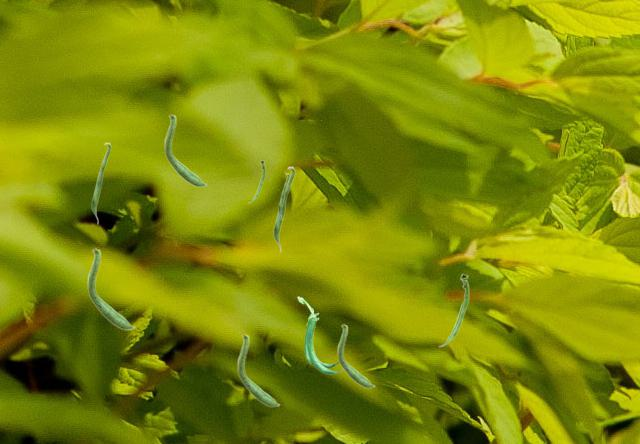french_bean: (87, 247, 134, 329), (297, 296, 343, 373), (164, 113, 206, 186), (237, 333, 279, 406), (337, 323, 374, 387), (438, 273, 468, 346), (273, 166, 294, 252), (91, 142, 110, 224), (247, 160, 264, 202), (278, 173, 288, 219)
